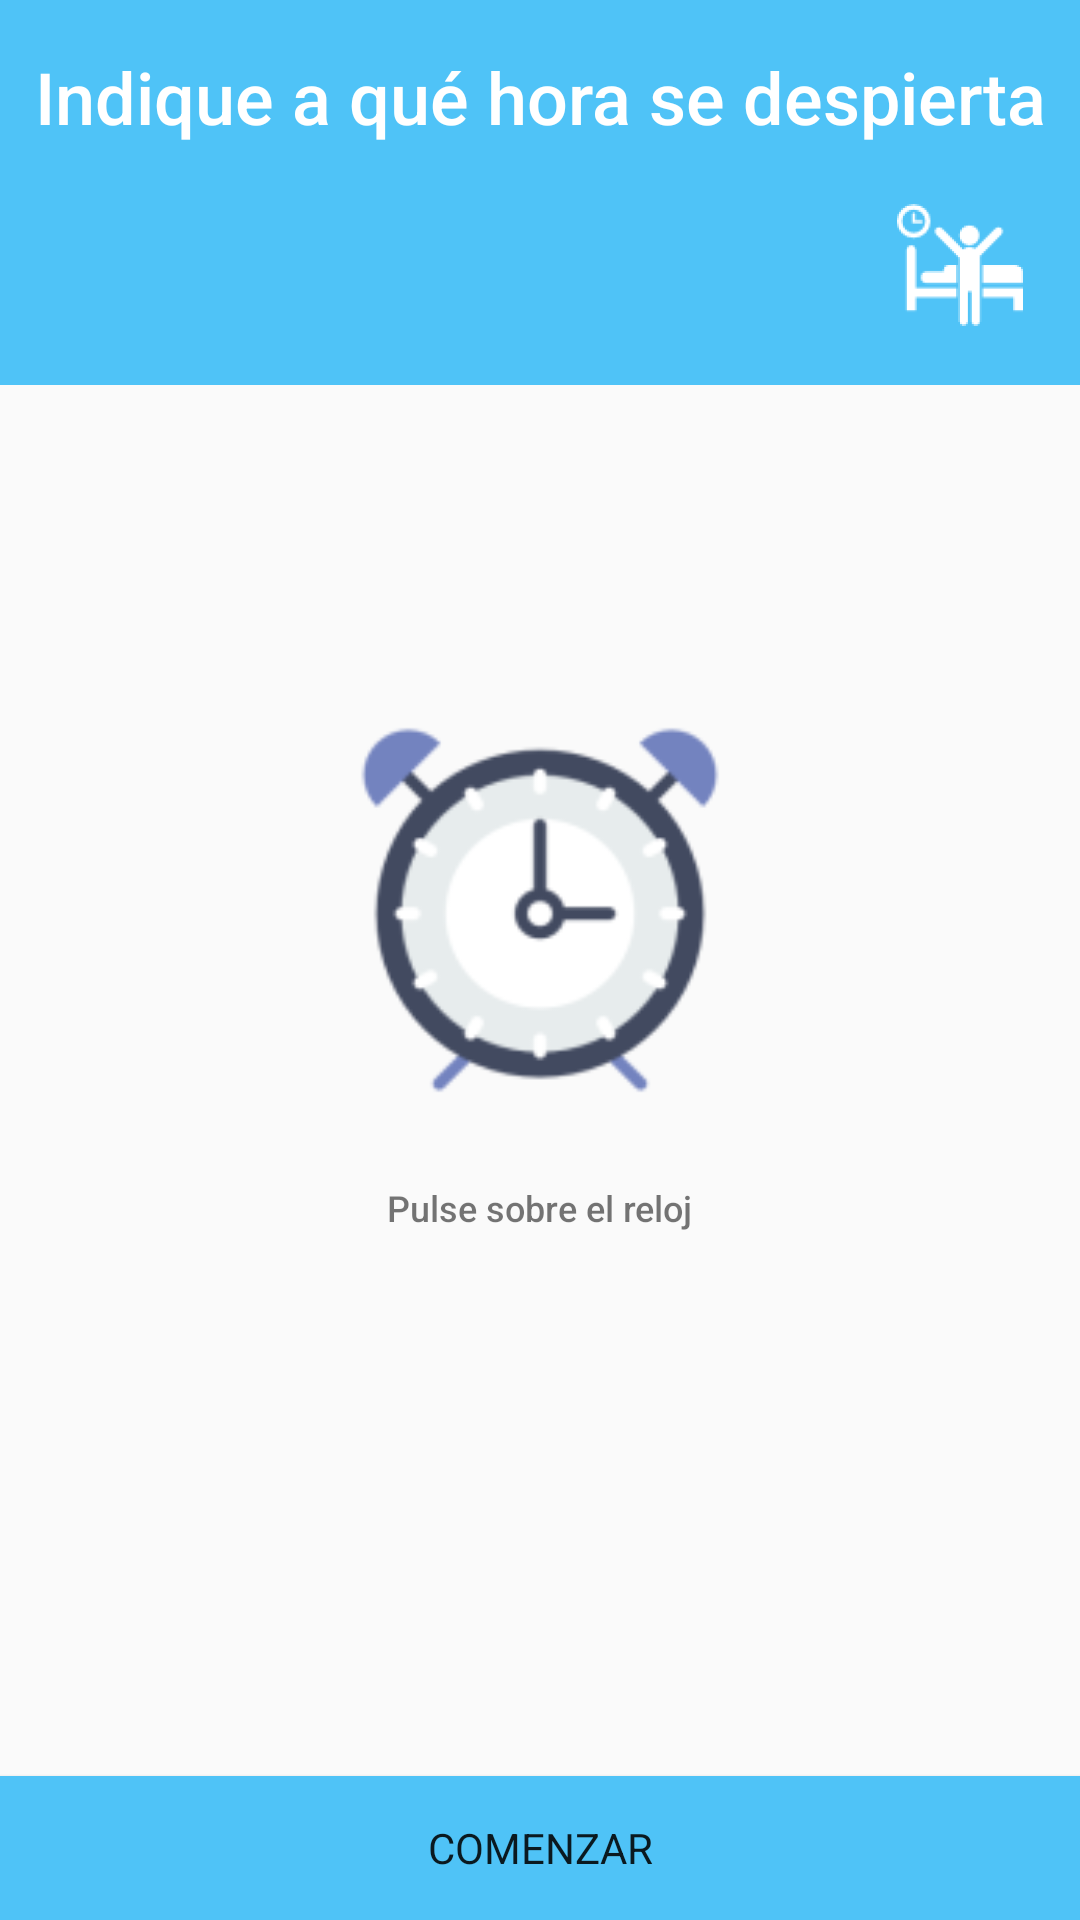

Point at icon controls on the screen. Image size 1080px×1920px, points as (x,y).
Cama: (960,265)
